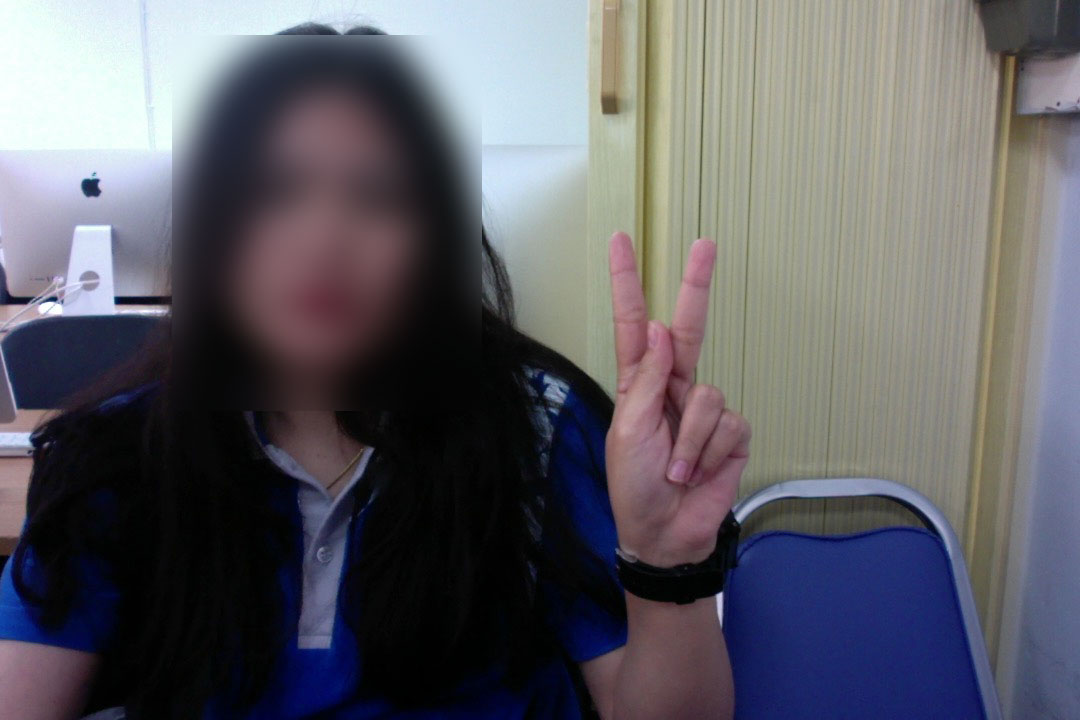ko: (586, 218, 777, 593)
